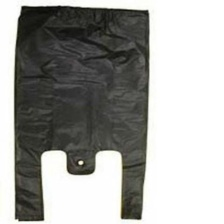plastic_bag: (8, 2, 160, 224)
